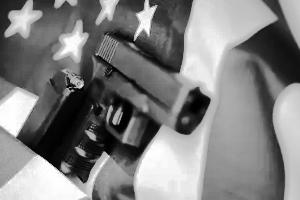handgun: (23, 21, 237, 178)
